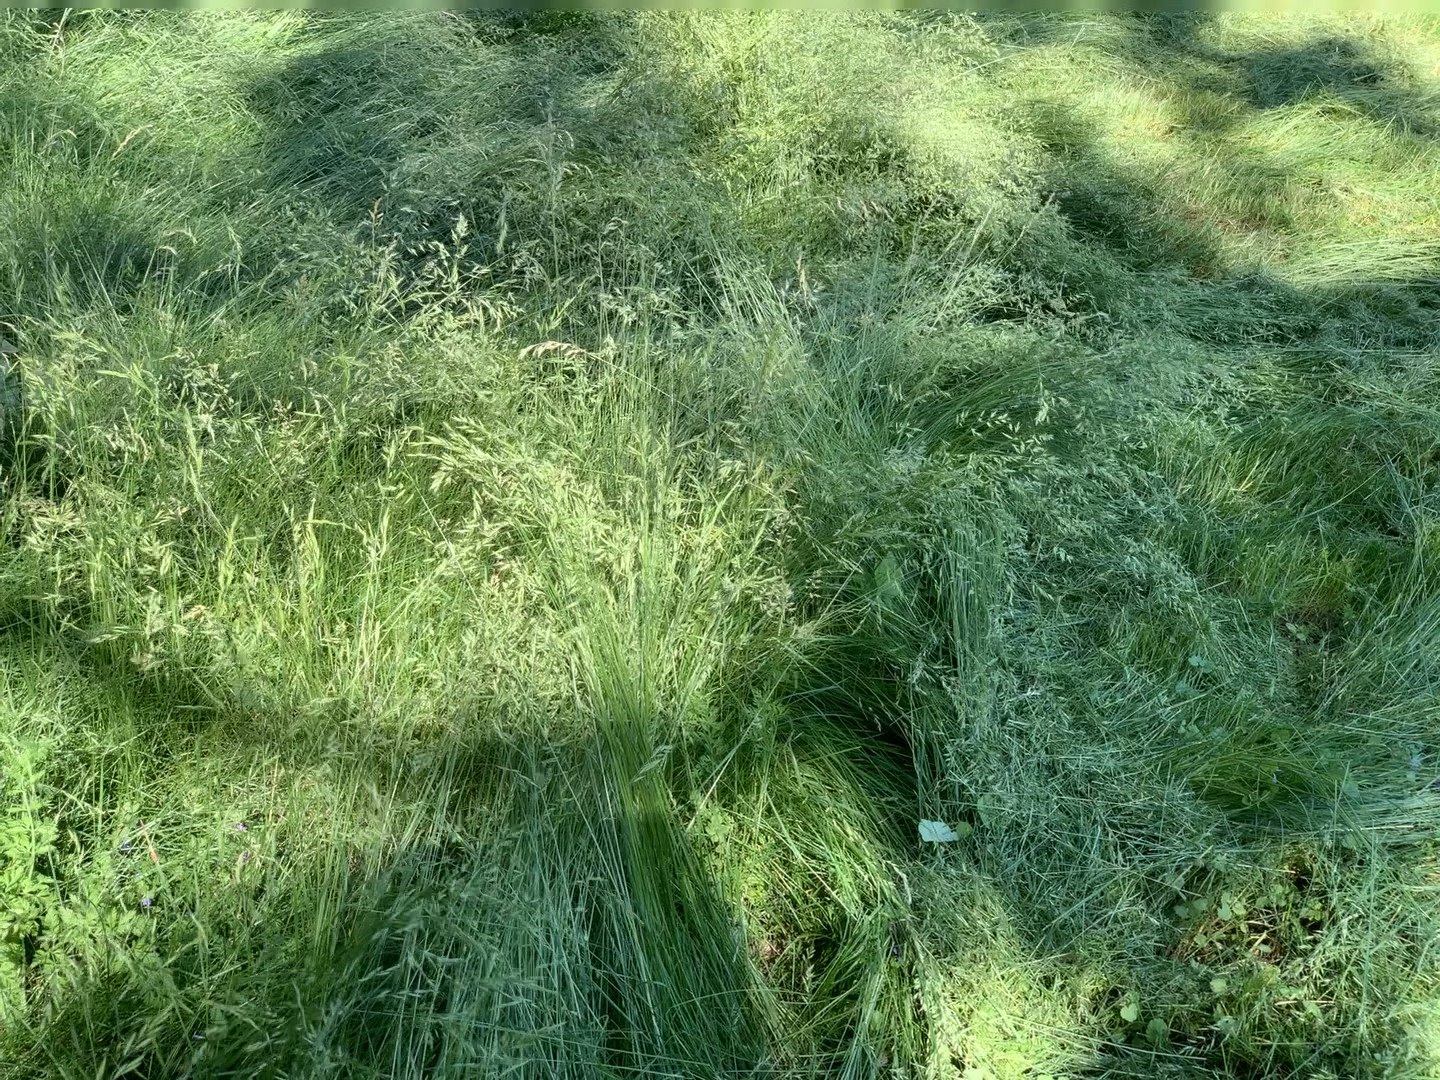grass: (1, 1, 1440, 1080)
